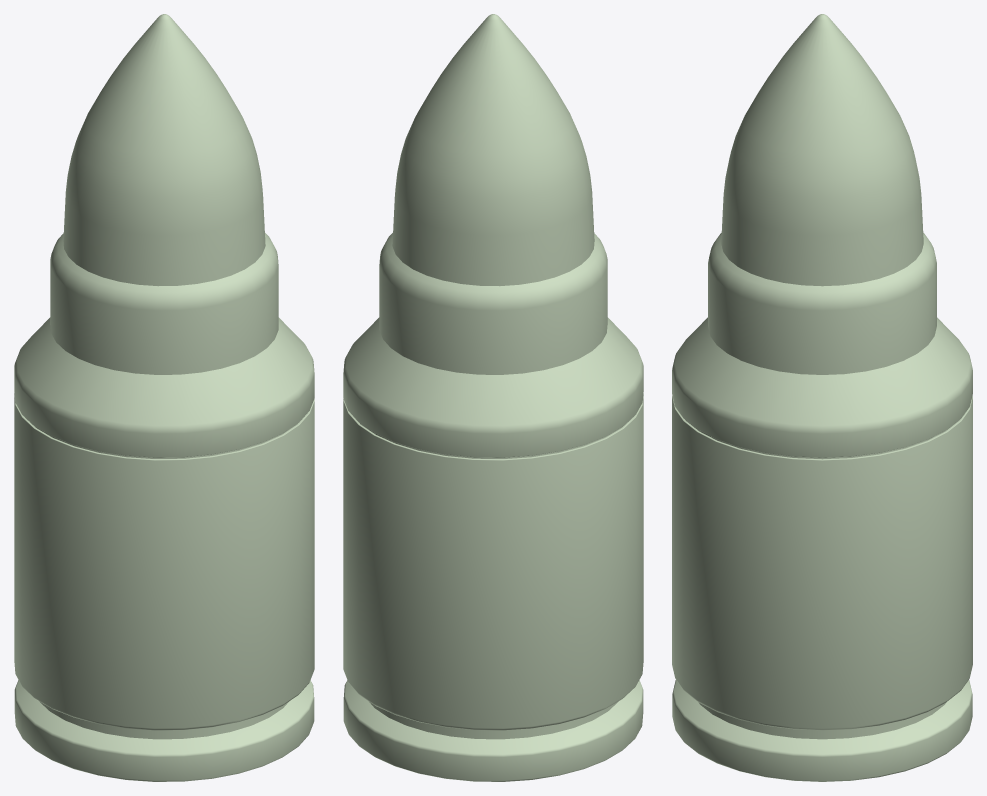
The model's file is Ammo.fbx.
3 views of the same model, side by side, from view 1: azimuth 30°, elevation 25°; view 2: azimuth 150°, elevation 25°; view 3: azimuth 270°, elevation 25° (orthographic).
Parts seen in each view (by area): view 1: Цилиндр; view 2: Цилиндр; view 3: Цилиндр.
Boxes of the visible parts, box(x1,y1,x2,y2) form: Цилиндр: box(14, 14, 314, 781); Цилиндр: box(343, 14, 643, 781); Цилиндр: box(672, 14, 972, 781).
Bounding box in the file's own units: 103 × 267 × 103.
